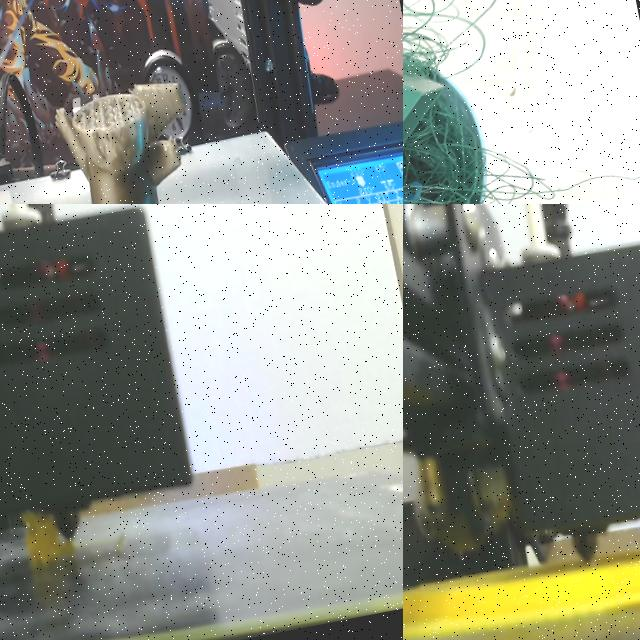spaghetti: (403, 0, 506, 115), (483, 151, 640, 204), (22, 512, 73, 566)
